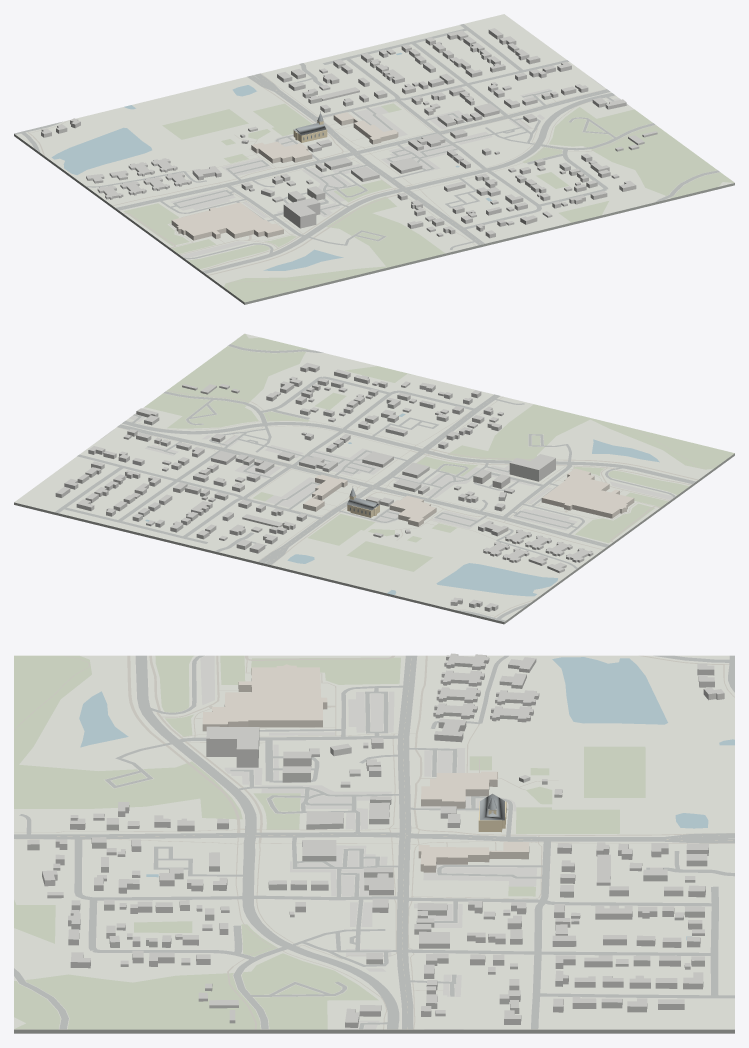
Rendered from downtown-st-michael.glb.
3 views of the same model, one above another, from view 1: azimuth 30°, elevation 25°; view 2: azimuth 150°, elevation 25°; view 3: azimuth 270°, elevation 25° (orthographic). The views are drawn at different scales.
Visible parts, largest first — view 1: Ground — flat terrain assumed, farmland, wood (×2), grass (×4), water (×2), St. Michael Elementary School, Parking (×4), Flat datum and model base, Main Street North, pitch, Saint Michael Parkway East, Saint Michael Parkway West (+8 smaller); view 2: Ground — flat terrain assumed, farmland, wood (×2), grass (×4), water (×2), St. Michael Elementary School, Parking (×4), Flat datum and model base, Main Street North, pitch, Saint Michael Parkway East, St. Michael Cemetery (+7 smaller); view 3: Ground — flat terrain assumed, farmland, wood (×3), Parking (×6), water (×2), grass (×4), St. Michael Elementary School, Flat datum and model base, Main Street North, pitch, St. Michael Cemetery, Saint Michael Parkway East (+22 smaller).
Part boxes in pixels (x1,y1,x2,y2): Ground — flat terrain assumed: (16, 14, 733, 286); farmland: (549, 107, 733, 198); wood (×2): (224, 201, 608, 302); grass (×4): (123, 180, 396, 269); water (×2): (51, 127, 343, 270); St. Michael Elementary School: (171, 202, 283, 240); Parking (×4): (170, 106, 458, 210); Flat datum and model base: (14, 134, 734, 304); Main Street North: (274, 90, 484, 244); pitch: (162, 109, 248, 139); Saint Michael Parkway East: (403, 93, 615, 190); Saint Michael Parkway West: (202, 188, 404, 273); Ground — flat terrain assumed: (14, 334, 713, 620); farmland: (145, 334, 307, 428); wood (×2): (345, 366, 734, 469); grass (×4): (417, 445, 689, 542); water (×2): (436, 439, 659, 596); St. Michael Elementary School: (541, 468, 634, 518); Parking (×4): (265, 448, 577, 530); Flat datum and model base: (14, 453, 734, 624); Main Street North: (283, 394, 499, 546); pitch: (346, 541, 432, 571); Saint Michael Parkway East: (122, 421, 424, 452); St. Michael Cemetery: (307, 514, 374, 545); Ground — flat terrain assumed: (14, 655, 734, 1029); farmland: (14, 953, 378, 1029); wood (×3): (14, 655, 205, 943); Parking (×6): (200, 655, 536, 896); water (×2): (79, 657, 667, 747); grass (×4): (155, 655, 400, 829); St. Michael Elementary School: (202, 664, 327, 731); Flat datum and model base: (14, 1029, 734, 1033); Main Street North: (14, 832, 665, 841); pitch: (584, 746, 645, 797); St. Michael Cemetery: (516, 807, 619, 833); Saint Michael Parkway East: (242, 835, 399, 1029).
Size of the model in its own units: 847 by 42.42 by 690.
